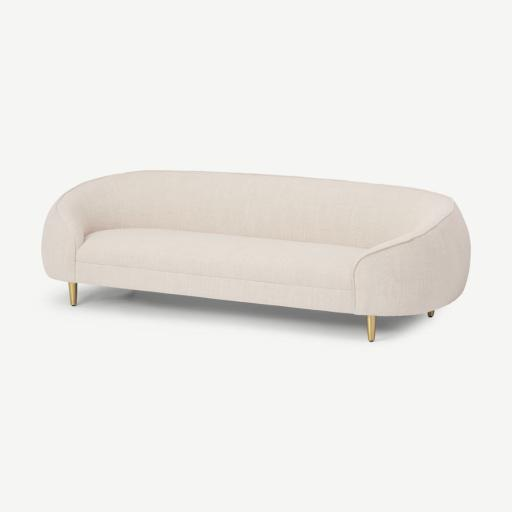back_cushion: (56, 171, 454, 250)
base: (77, 263, 349, 312)
left_arm: (352, 203, 469, 316)
legs: (367, 316, 375, 341), (69, 282, 77, 306)
one-seater: (42, 170, 470, 342)
right_arm: (42, 194, 85, 305)
seat_cushion: (77, 229, 363, 309)
